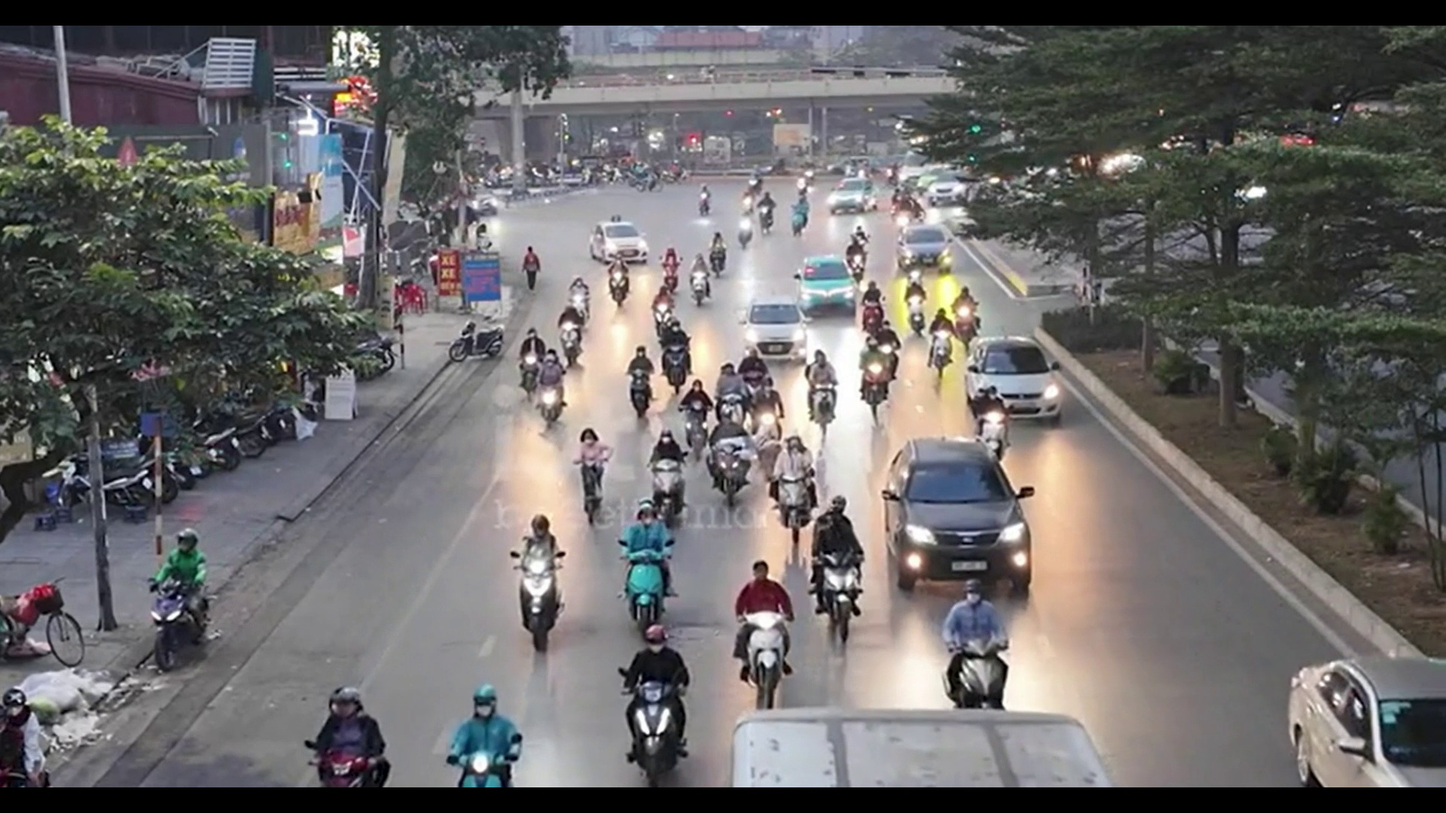car: (727, 704, 1118, 788), (884, 438, 1033, 597), (1289, 655, 1445, 787), (969, 336, 1063, 423), (796, 256, 856, 315), (747, 299, 808, 348), (590, 217, 651, 266), (899, 224, 950, 270), (828, 185, 871, 217)
motorcycle: (621, 674, 690, 785), (0, 580, 87, 668), (734, 610, 794, 713), (517, 563, 563, 654)
truck: (589, 217, 651, 264)
